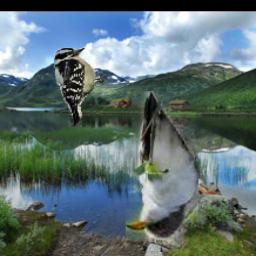Cuckoo: (126, 92, 198, 241)
Woodpecker: (52, 45, 108, 127)
